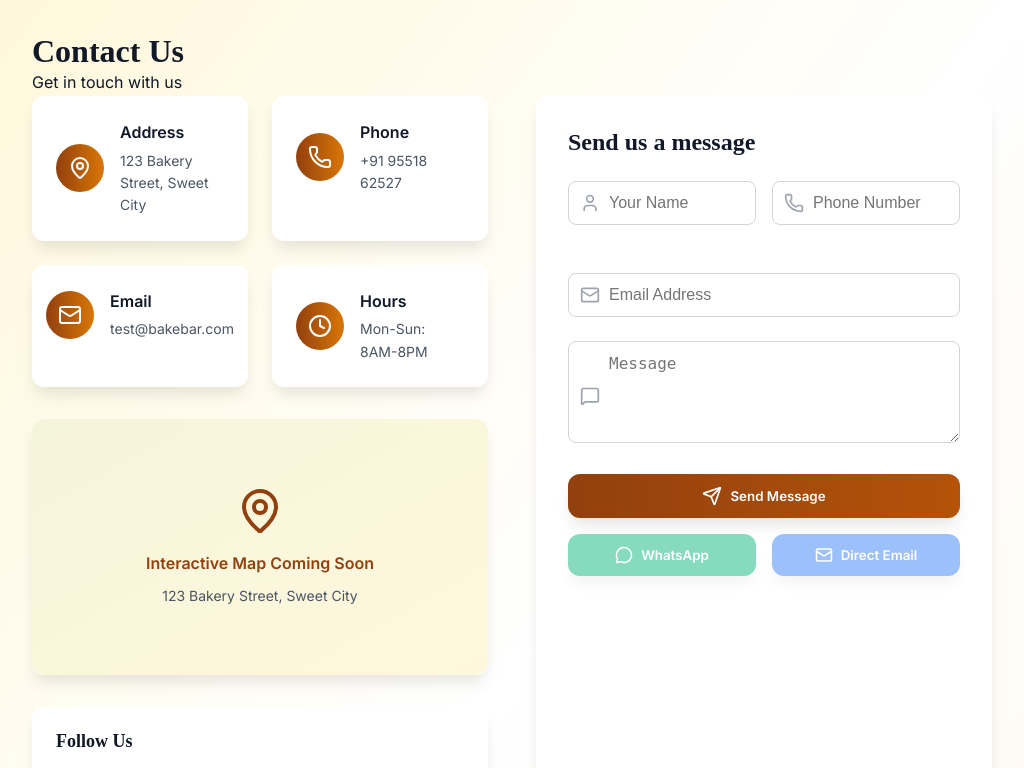
Scenario: Contact Component › disables email button when required fields are empty
This screenshot has width=1024, height=768.
Expected: the button "Direct Email" is disabled, [772,534,960,576]
Note: Fill name and email but not name
Type "john@example.com" into the field with placeholder "Email Address". click: [764, 295]
box: [568,273,960,317]
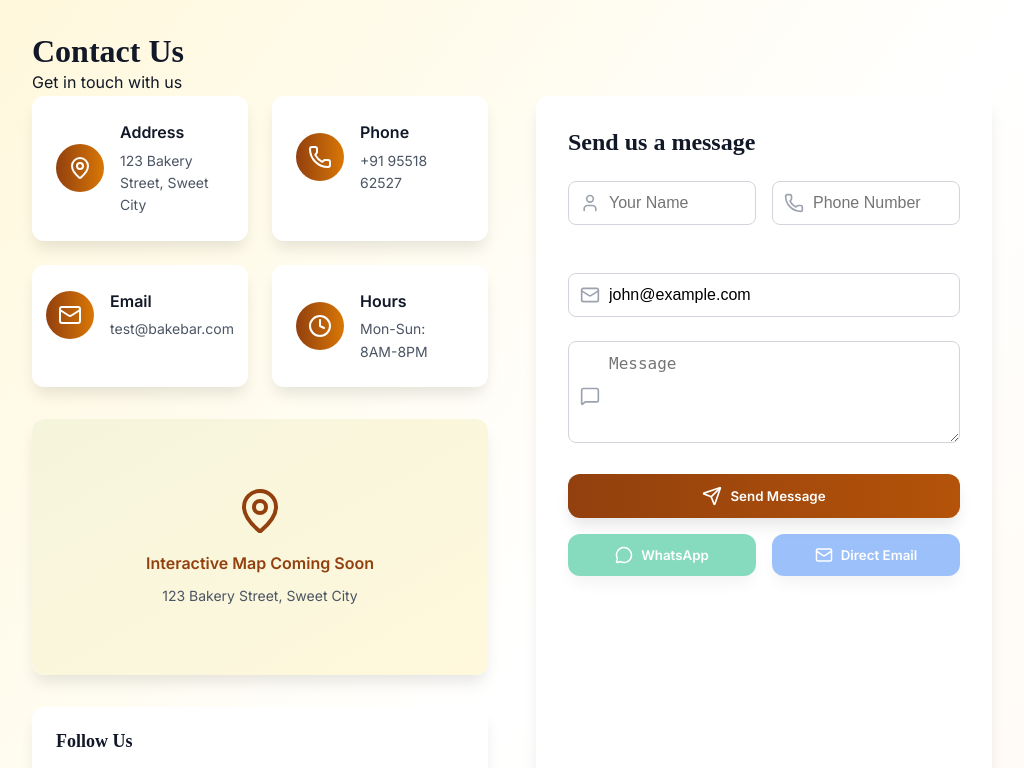
Expected: the button "Direct Email" is disabled, [772,534,960,576]
Note: Fill name as well
Type "John Doe" into the field with placeholder "Your Name". click: [662, 203]
box: [568,181,756,225]
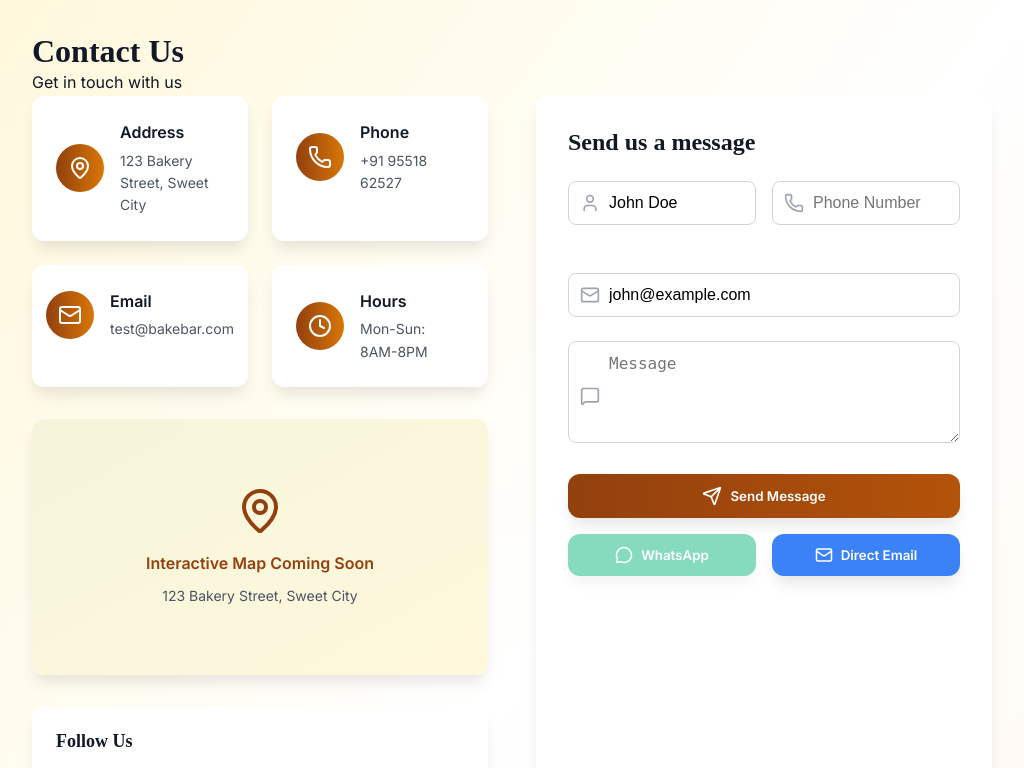
Expected: the button "Direct Email" is enabled, [772,534,960,576]
